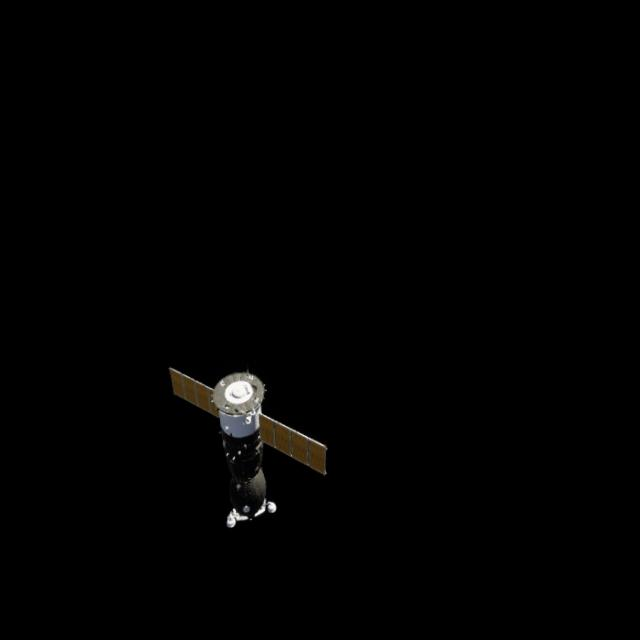Satellites revolving around earth: (166, 356, 332, 534)
